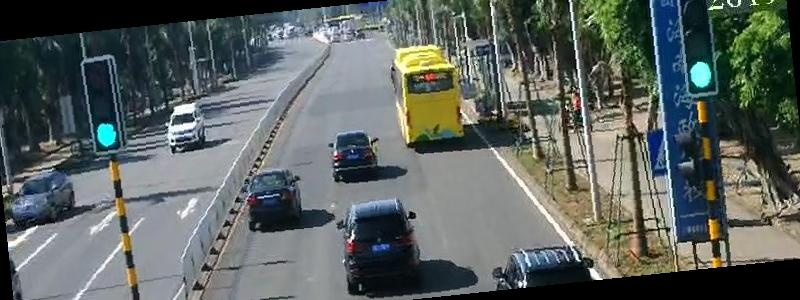green: (688, 60, 716, 89), (93, 122, 120, 148)
